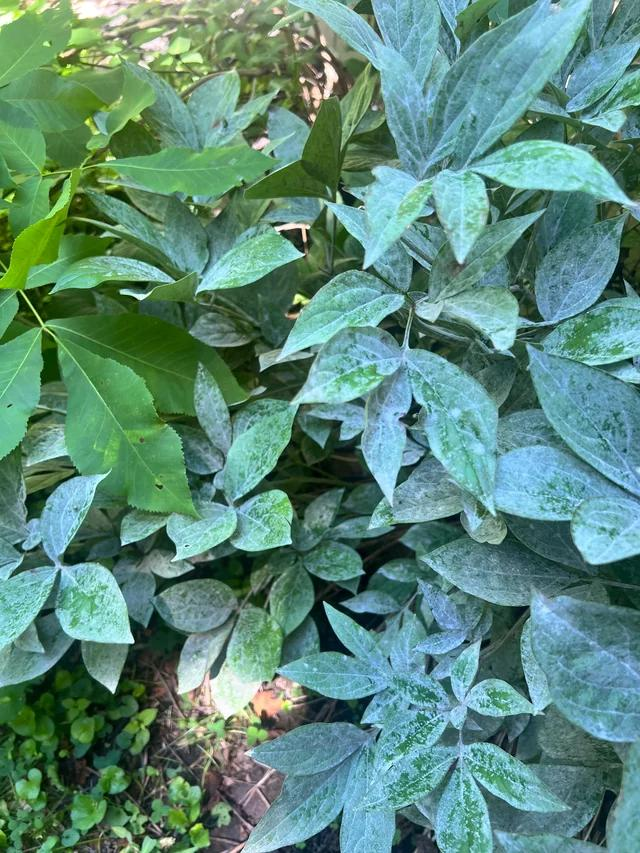powdery_mildew: (67, 27, 552, 773)
